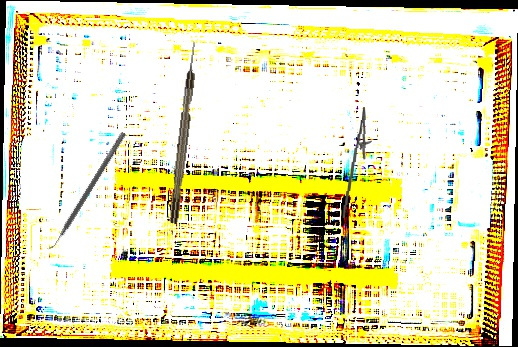Hook Surgical: (167, 41, 201, 224)
Needle Holder: (341, 105, 375, 220)
Spatula Surgical: (44, 128, 127, 254)
